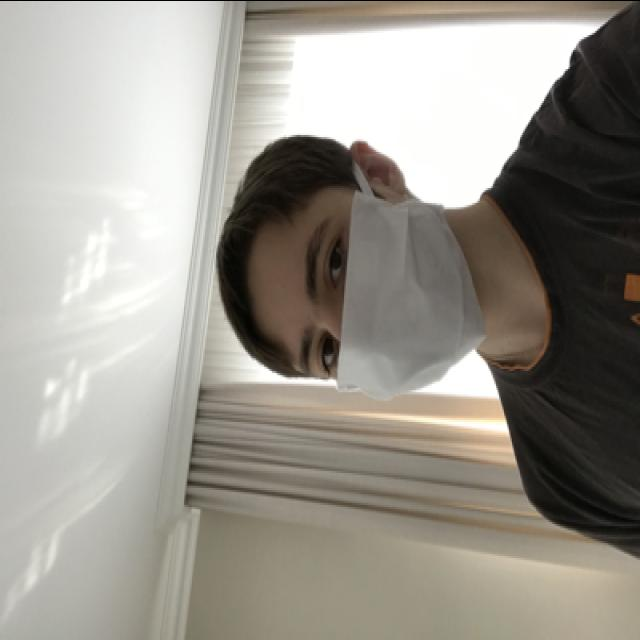mask: (282, 180, 486, 398)
